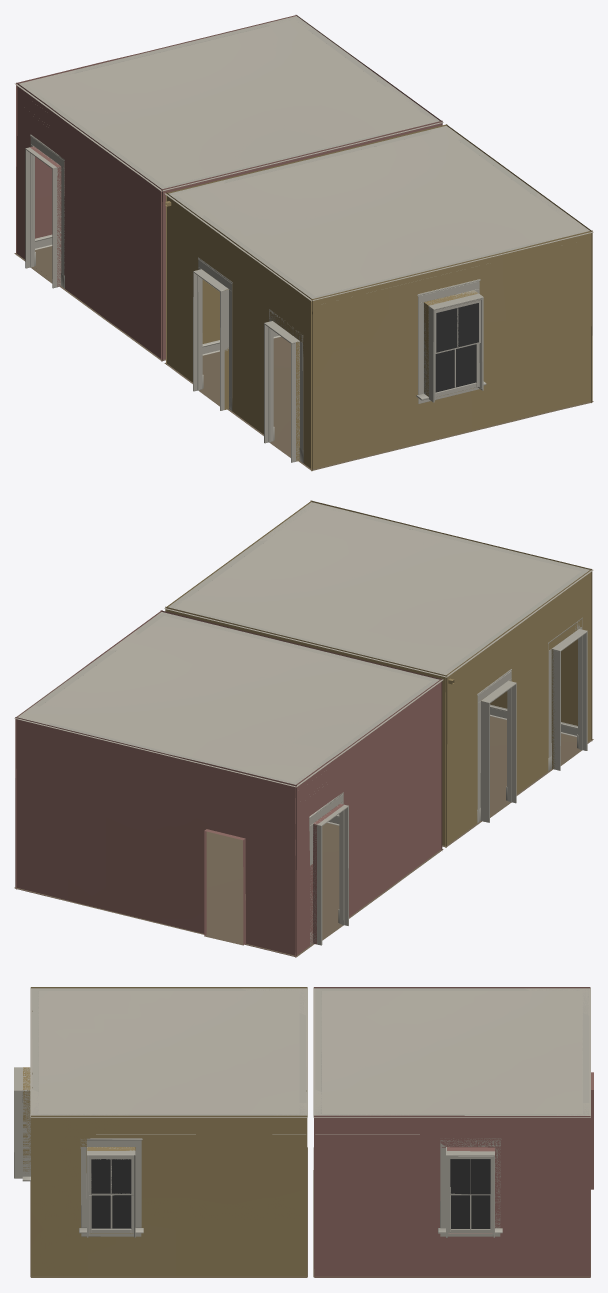
The model's file is house_upper_rooms.glb.
3 renders of one model, top to bottom at view 1: azimuth 30°, elevation 25°; view 2: azimuth 150°, elevation 25°; view 3: azimuth 270°, elevation 25°, orthographic. The views are drawn at different scales.
Visible parts, largest first — view 1: U2, U3, U2_glass_O_U2_S; view 2: U3, U2; view 3: U2, U3, U2_glass_O_U2_E, U3_glass_O_U3_E.
Boxes of the visible parts, bbox=[...] form: U2: bbox=[164, 124, 593, 471]; U3: bbox=[14, 15, 443, 361]; U2_glass_O_U2_S: bbox=[435, 303, 478, 392]; U3: bbox=[14, 610, 443, 957]; U2: bbox=[164, 500, 593, 847]; U2: bbox=[14, 987, 307, 1277]; U3: bbox=[313, 987, 593, 1277]; U2_glass_O_U2_E: bbox=[91, 1159, 131, 1228]; U3_glass_O_U3_E: bbox=[450, 1159, 490, 1228].
Size of the model in its own units: 5.45 by 3.25 by 9.53.
